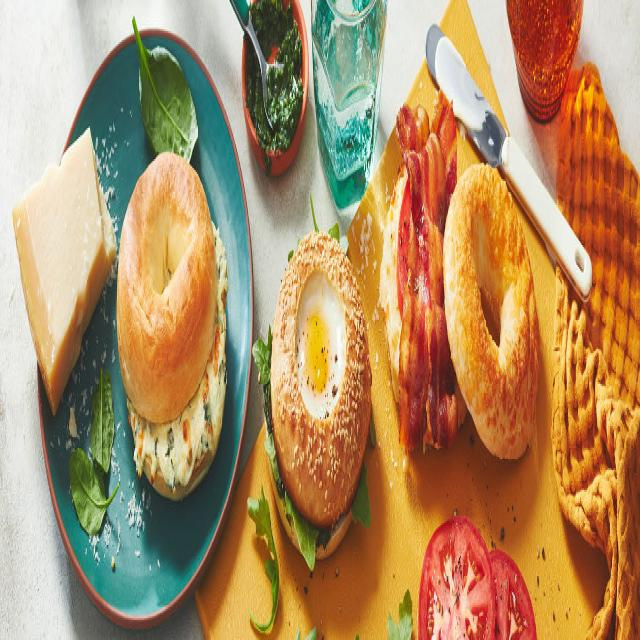Bagel: (442, 167, 540, 459), (116, 153, 218, 423)
